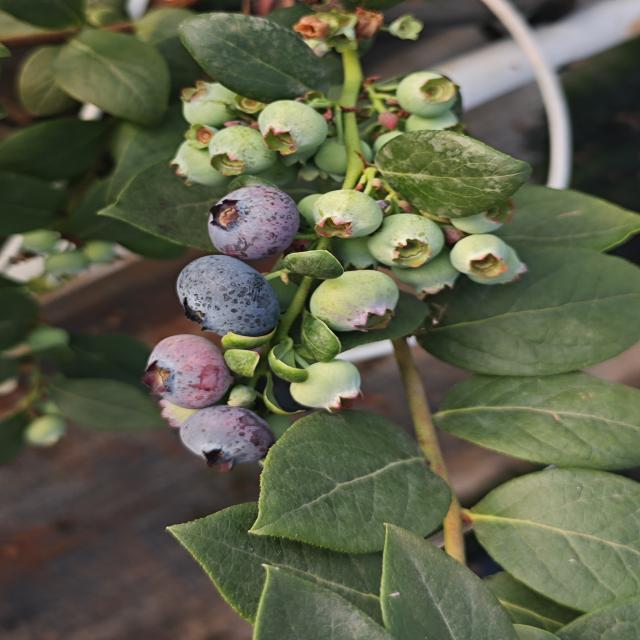ripe: (168, 248, 298, 350), (121, 337, 244, 402), (198, 180, 288, 264), (173, 401, 276, 465)
